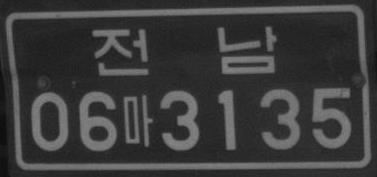0: (29, 90, 69, 152)
1: (211, 88, 247, 150)
3: (159, 88, 201, 152), (259, 88, 301, 151)
5: (310, 85, 353, 150)
6: (77, 90, 117, 152)
마: (121, 93, 153, 147)
전남_D: (91, 24, 278, 75)
